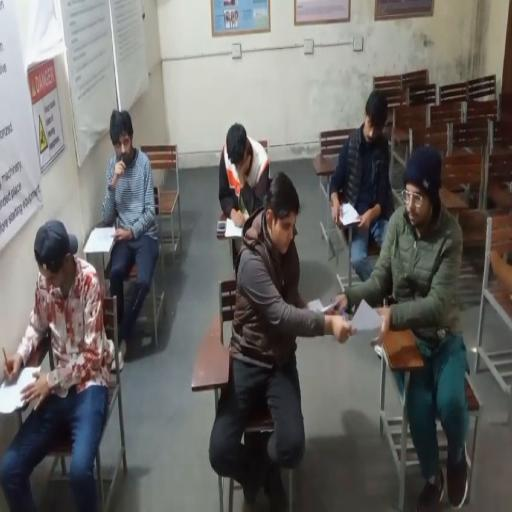paper: (0, 364, 42, 414), (350, 298, 382, 332), (308, 297, 344, 315), (88, 226, 117, 247), (338, 202, 361, 226), (218, 217, 244, 237)
